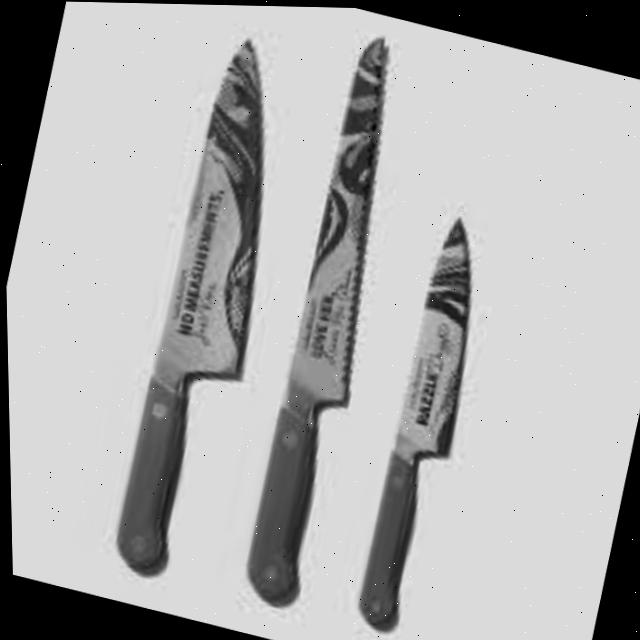Knife: (96, 25, 317, 587), (225, 22, 430, 611), (342, 206, 503, 635)
